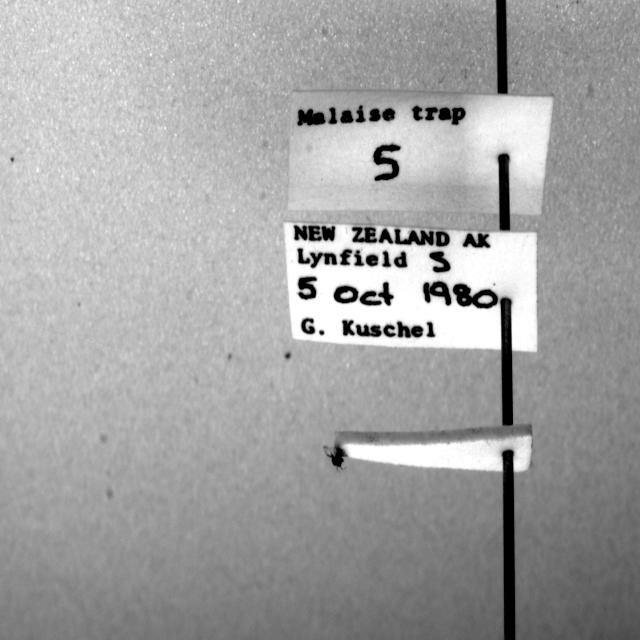mixed_label: (289, 90, 554, 214), (284, 223, 538, 352)
